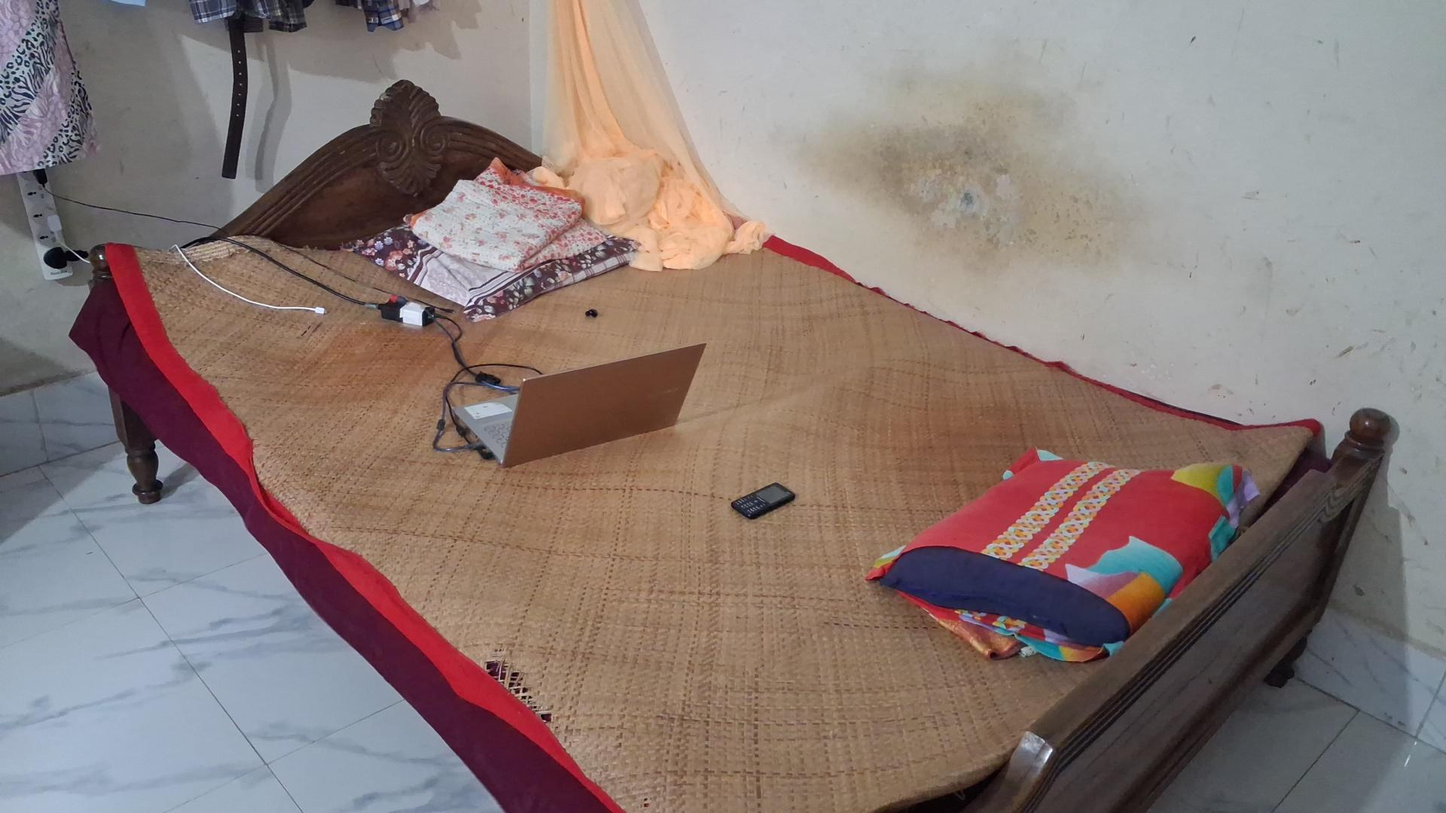Blanket: (403, 157, 585, 266)
Laptop: (446, 342, 708, 469)
Phone: (731, 475, 799, 518)
Pillow: (871, 458, 1264, 665)
